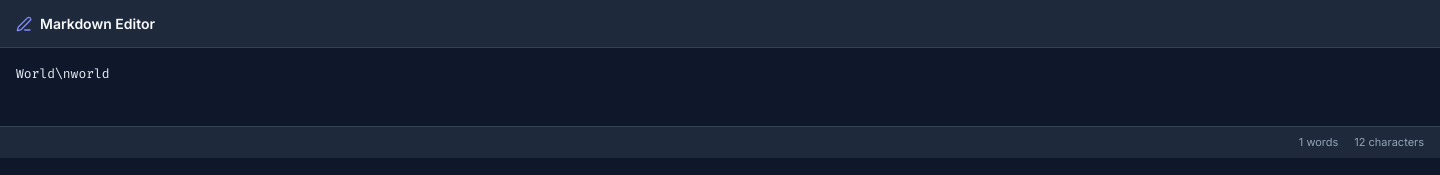
Test: Editor Component Search and Replace › supports case sensitive searching
Press f
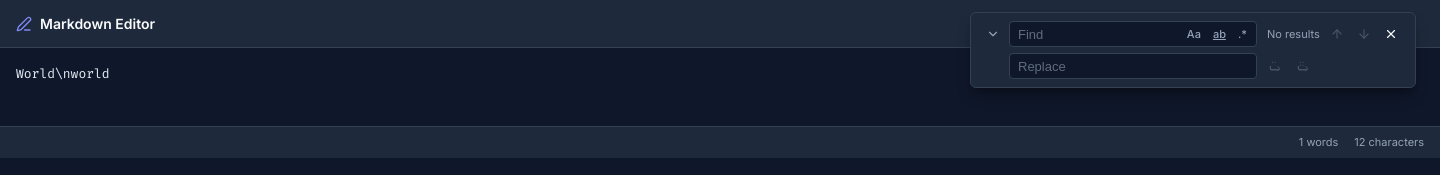
Type "World" into the field with placeholder "Find" at (1133, 34), box [1010, 22, 1256, 46]
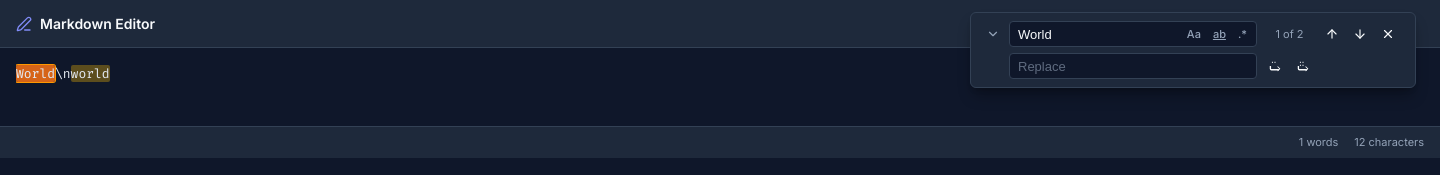
# Enable Match Case toggle
Click the button titled "Match Case (Aa)" at (1194, 34), box [1182, 25, 1206, 43]
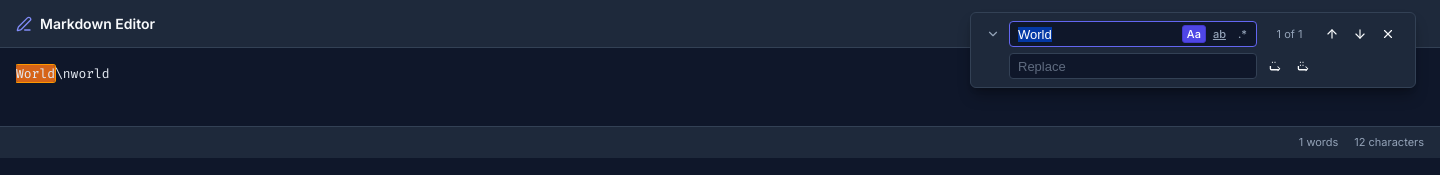
Check: the text with class "find-replace-status" reads "1 of 1", box [1277, 27, 1302, 41]
